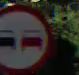No overtake: (0, 4, 57, 74)
